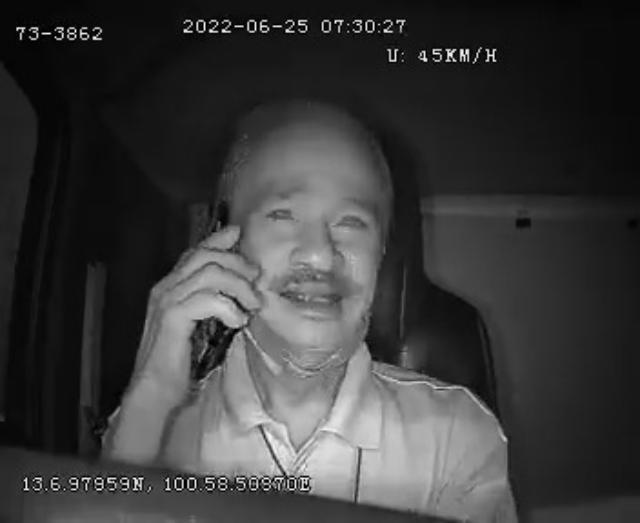PhoneUse: (187, 199, 239, 377)
SafeDriving: (324, 200, 376, 243), (258, 195, 303, 230)
